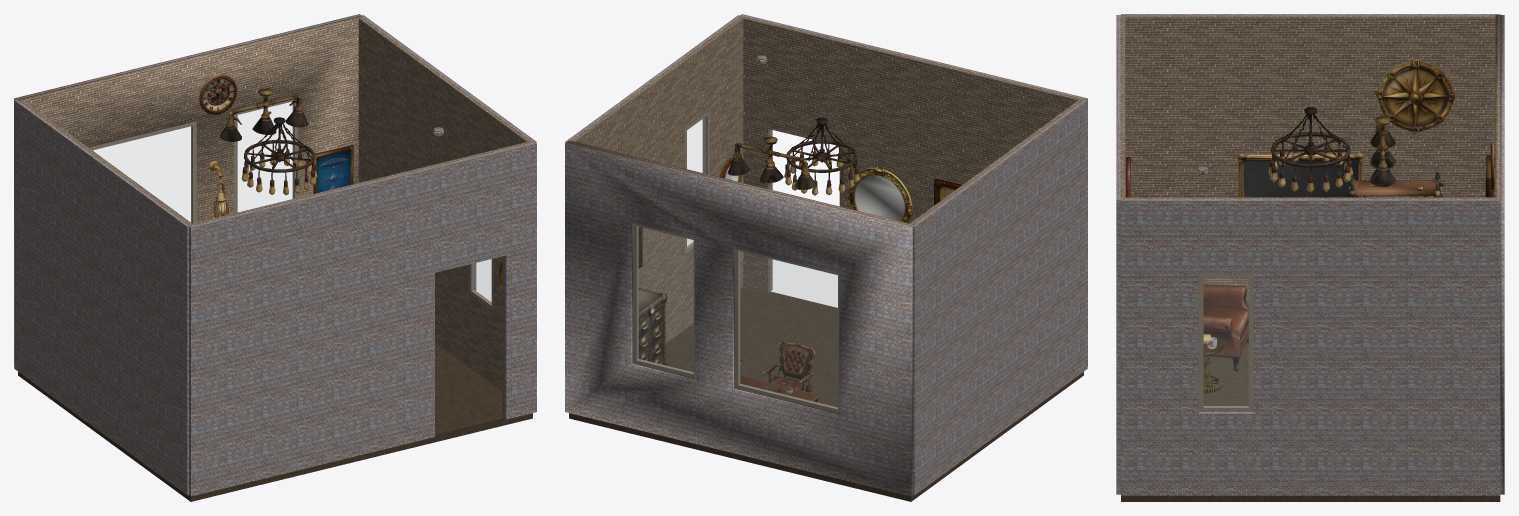
The model's file is scene_named.glb.
The picture shows the model from 3 angles, left to right: view 1: azimuth 30°, elevation 25°; view 2: azimuth 150°, elevation 25°; view 3: azimuth 270°, elevation 25°; orthographic projection. The views are drawn at different scales.
Visible parts, largest first — view 1: south_wall_exterior_office/south_wall_exterior_office/geomet, west_wall_exterior_office/west_wall_exterior_office/geometry, north_wall_office/north_wall_office/geometry_0, east_wall_office/east_wall_office/geometry_0, floor_office, window_4_office/window_4_office/glass, window_6_office/window_6_office/glass, chandelier_0, track_light_0, blueprint_0, south_wall_office/south_wall_office/geometry_0, clock_0 (+6 smaller); view 2: north_wall_exterior_office/north_wall_exterior_office/geomet, west_wall_exterior_office/west_wall_exterior_office/geometry, south_wall_office/south_wall_office/geometry_0, east_wall_office/east_wall_office/geometry_0, window_4_office/window_4_office/glass, floor_office, window_6_office/window_6_office/glass, mirror_0, chandelier_0, window_4_office/window_4_office/frame, filing_cabinet_0, office_chair_0 (+9 smaller); view 3: east_wall_exterior_office/east_wall_exterior_office/geometry, west_wall_office/west_wall_office/geometry_0, window_5_office/window_5_office/glass, floor_office, wall_sculpture_0, chalkboard_0, chandelier_0, armchair_0, north_wall_exterior_office/north_wall_exterior_office/geomet, south_wall_exterior_office/south_wall_exterior_office/geomet, window_5_office/window_5_office/frame, bookcase_0 (+6 smaller).
Part boxes in pixels (x1,y1,x2,y2): south_wall_exterior_office/south_wall_exterior_office/geomet: (189, 142, 536, 496); west_wall_exterior_office/west_wall_exterior_office/geometry: (14, 100, 188, 495); north_wall_office/north_wall_office/geometry_0: (16, 15, 363, 222); east_wall_office/east_wall_office/geometry_0: (358, 17, 530, 391); floor_office: (18, 343, 532, 501); window_4_office/window_4_office/glass: (93, 126, 191, 222); window_6_office/window_6_office/glass: (238, 102, 293, 211); chandelier_0: (241, 117, 317, 195); track_light_0: (219, 88, 308, 141); blueprint_0: (313, 145, 353, 193); south_wall_office/south_wall_office/geometry_0: (187, 140, 534, 417); clock_0: (199, 74, 237, 114); north_wall_exterior_office/north_wall_exterior_office/geomet: (565, 142, 912, 496); west_wall_exterior_office/west_wall_exterior_office/geometry: (913, 100, 1087, 495); south_wall_office/south_wall_office/geometry_0: (738, 15, 1085, 292); east_wall_office/east_wall_office/geometry_0: (571, 17, 743, 343); window_4_office/window_4_office/glass: (739, 251, 837, 408); floor_office: (569, 287, 1083, 501); window_6_office/window_6_office/glass: (637, 227, 693, 372); mirror_0: (847, 167, 912, 223); chandelier_0: (784, 117, 859, 195); window_4_office/window_4_office/frame: (734, 248, 839, 413); filing_cabinet_0: (638, 287, 667, 365); office_chair_0: (763, 340, 815, 392); east_wall_exterior_office/east_wall_exterior_office/geometry: (1121, 199, 1500, 495); west_wall_office/west_wall_office/geometry_0: (1125, 16, 1495, 304); window_5_office/window_5_office/glass: (1204, 277, 1248, 406); floor_office: (1121, 342, 1500, 501); wall_sculpture_0: (1374, 59, 1455, 133); chalkboard_0: (1238, 153, 1363, 197); chandelier_0: (1268, 107, 1352, 192); armchair_0: (1203, 284, 1248, 371); north_wall_exterior_office/north_wall_exterior_office/geomet: (1500, 15, 1504, 494); south_wall_exterior_office/south_wall_exterior_office/geomet: (1116, 15, 1120, 494); window_5_office/window_5_office/frame: (1199, 274, 1253, 411); bookcase_0: (1347, 172, 1443, 197).
Size of the model in its own units: 4.9 by 3.7 by 4.3.
Materials: 40 (38 with a texture image).
